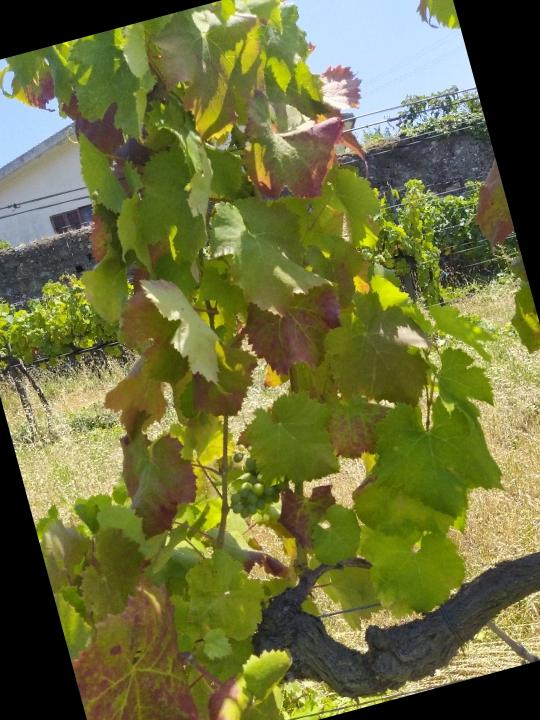grape: (214, 440, 287, 527)
